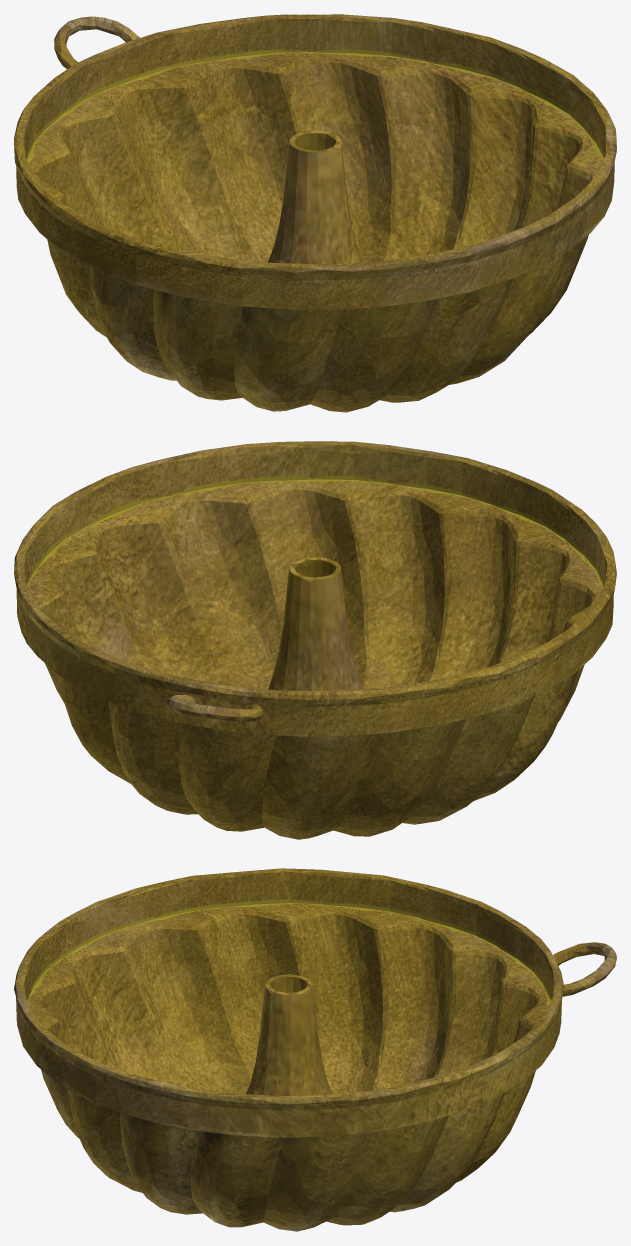
File: cake mould low poly.gltf
3 renders of one model, top to bottom at view 1: azimuth 30°, elevation 25°; view 2: azimuth 150°, elevation 25°; view 3: azimuth 270°, elevation 25°, orthographic. The views are drawn at different scales.
Parts seen in each view (by area): view 1: Mold; view 2: Mold; view 3: Mold.
Boxes of the visible parts, x1,y1,x2,y2 form: Mold: [14, 14, 616, 412]; Mold: [14, 441, 616, 839]; Mold: [14, 868, 616, 1231].
Bounding box in the file's own units: 7.29 × 2.78 × 7.99.
Materials: 1 (1 with a texture image).
